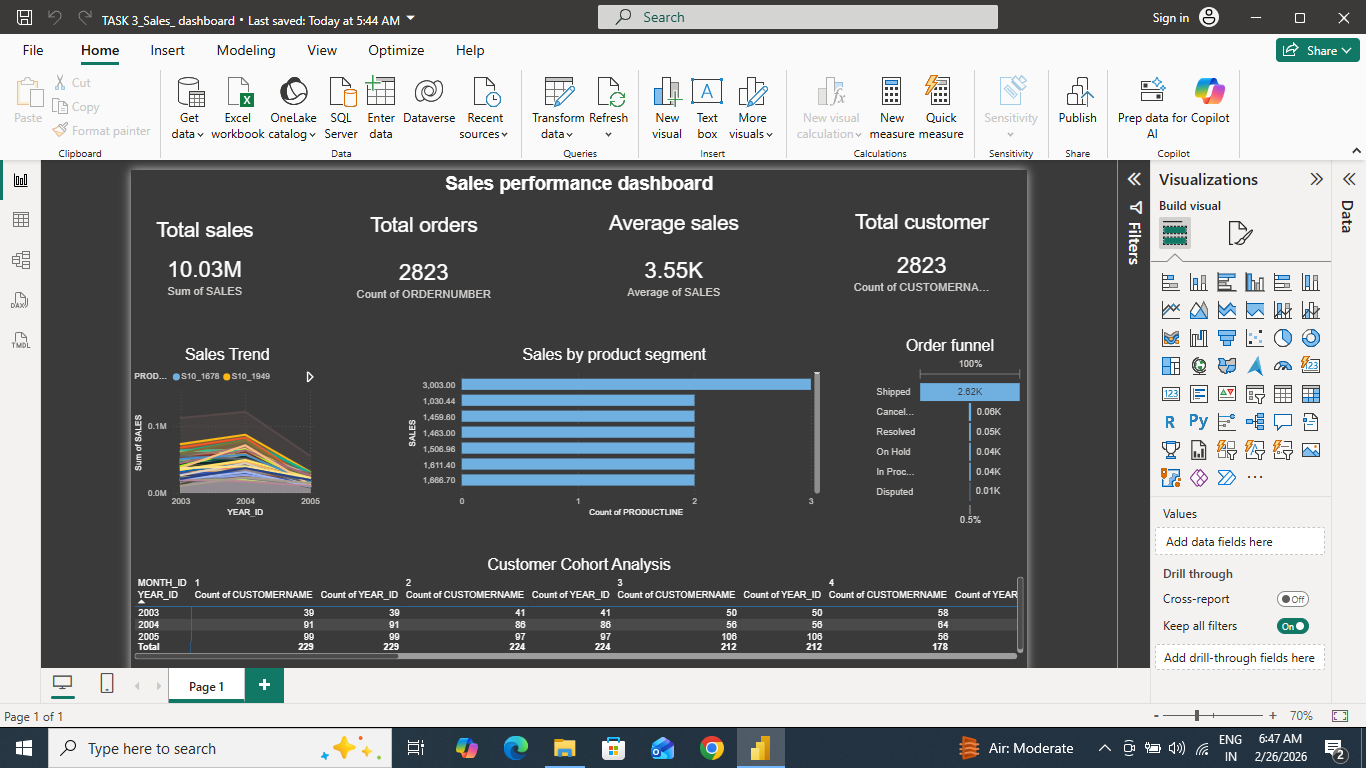

What the dashboard file says about the page in this screenshot:
{"tool":"powerbi","page":{"name":"Page 1","canvas":[1280,720],"ordinal":0},"visuals":[{"type":"card","title":"Total sales","fields":{"Values":["Sum(sales_data_sample (2).SALES)"]},"box":[0,68.4,210.9,129.5],"z":0},{"type":"card","title":"Average sales","fields":{"Values":["Avg(sales_data_sample (2).SALES)"]},"box":[670.5,58.2,210.9,152.7],"z":1000},{"type":"card","title":"Total orders","fields":{"Values":["CountNonNull(sales_data_sample (2).ORDERNUMBER)"]},"box":[312.7,61.1,210.9,152.7],"z":2000},{"type":"card","title":"Total customer","fields":{"Values":["CountNonNull(sales_data_sample (2).CUSTOMERNAME)"]},"box":[1024,56.7,210.9,141.1],"z":3000},{"type":"pivotTable","title":"Customer Cohort Analysis","fields":{"Values":["CountNonNull(sales_data_sample (2).CUSTOMERNAME)","CountNonNull(sales_data_sample (2).YEAR_ID)"],"Rows":["sales_data_sample (2).YEAR_ID"],"Columns":["sales_data_sample (2).MONTH_ID"]},"box":[0,549.8,1280,154.2],"z":4000},{"type":"lineChart","title":"Sales Trend","fields":{"Category":["sales_data_sample (2).YEAR_ID"],"Series":["sales_data_sample (2).PRODUCTCODE"],"Y":["Sum(sales_data_sample (2).SALES)"]},"box":[0,250.2,274.9,250.2],"z":5000},{"type":"funnel","title":"Order funnel","fields":{"Category":["sales_data_sample (2).STATUS"],"Y":["CountNonNull(sales_data_sample (2).ORDERNUMBER)"]},"box":[1060.4,237.1,219.6,276.4],"z":6000},{"type":"clusteredBarChart","title":"Sales by product segment","fields":{"Y":["CountNonNull(sales_data_sample (2).PRODUCTLINE)"],"Category":["sales_data_sample (2).SALES"]},"box":[391.3,250.2,597.8,250.2],"z":7000},{"type":"textbox","box":[0,0,1280,46.5],"z":7001}]}

Visuals, with their boxes on the page's 1280x720 design canvas (x1, y1, x2, y2). These are canvas units, not pixel positions in the 1366x768 screenshot, which may show the page scaled, cropped or inside an application window:
"Total sales" card: bbox=[0, 68, 211, 198]
"Average sales" card: bbox=[670, 58, 881, 211]
"Total orders" card: bbox=[313, 61, 524, 214]
"Total customer" card: bbox=[1024, 57, 1235, 198]
"Customer Cohort Analysis" pivotTable: bbox=[0, 550, 1280, 704]
"Sales Trend" lineChart: bbox=[0, 250, 275, 500]
"Order funnel" funnel: bbox=[1060, 237, 1280, 514]
"Sales by product segment" clusteredBarChart: bbox=[391, 250, 989, 500]
textbox: bbox=[0, 0, 1280, 46]
